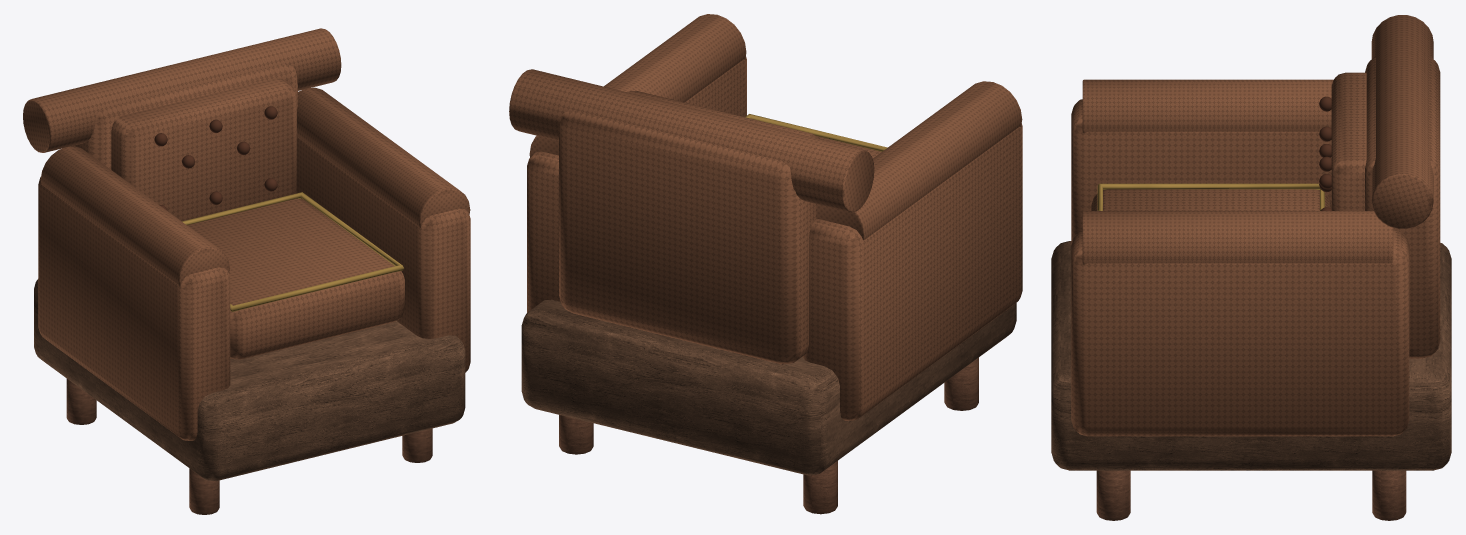
File: asset_068_lounge_armchair_sheet07.glb
3 renders of one model, left to right at view 1: azimuth 30°, elevation 25°; view 2: azimuth 150°, elevation 25°; view 3: azimuth 270°, elevation 25°, orthographic. The views are drawn at different scales.
Visible parts, largest first — view 1: MESH_ArmchairArmBlockSet, MESH_ArmchairBase, MESH_ArmchairSeat, MESH_ArmchairArmRollSet, MESH_ArmchairBackCushion, MESH_ArmchairBackRoll, MESH_ArmchairBack, MESH_ArmchairFootSet, MESH_SeatPipingSet, MESH_ArmchairTuftButtonSet; view 2: MESH_ArmchairBack, MESH_ArmchairArmBlockSet, MESH_ArmchairBase, MESH_ArmchairArmRollSet, MESH_ArmchairBackRoll, MESH_ArmchairFootSet, MESH_ArmchairBackCushion, MESH_SeatPipingSet; view 3: MESH_ArmchairArmBlockSet, MESH_ArmchairArmRollSet, MESH_ArmchairBase, MESH_ArmchairBackRoll, MESH_ArmchairBack, MESH_ArmchairSeat, MESH_ArmchairBackCushion, MESH_ArmchairFootSet, MESH_SeatPipingSet, MESH_ArmchairTuftButtonSet.
Part boxes in pixels (left/top/right/bottom): MESH_ArmchairArmBlockSet: left=38, top=137, right=470, bottom=440; MESH_ArmchairBase: left=34, top=279, right=465, bottom=481; MESH_ArmchairSeat: left=187, top=198, right=404, bottom=359; MESH_ArmchairArmRollSet: left=40, top=87, right=470, bottom=286; MESH_ArmchairBackCushion: left=111, top=78, right=296, bottom=221; MESH_ArmchairBackRoll: left=23, top=28, right=341, bottom=152; MESH_ArmchairBack: left=71, top=64, right=297, bottom=169; MESH_ArmchairFootSet: left=66, top=378, right=432, bottom=514; MESH_SeatPipingSet: left=182, top=192, right=403, bottom=311; MESH_ArmchairTuftButtonSet: left=154, top=106, right=277, bottom=210; MESH_ArmchairBack: left=559, top=110, right=816, bottom=364; MESH_ArmchairArmBlockSet: left=527, top=56, right=1022, bottom=420; MESH_ArmchairBase: left=521, top=299, right=1016, bottom=475; MESH_ArmchairArmRollSet: left=529, top=14, right=1022, bottom=240; MESH_ArmchairBackRoll: left=509, top=69, right=874, bottom=212; MESH_ArmchairFootSet: left=559, top=357, right=978, bottom=514; MESH_ArmchairBackCushion: left=627, top=90, right=819, bottom=139; MESH_SeatPipingSet: left=745, top=114, right=887, bottom=151; MESH_ArmchairArmBlockSet: left=1071, top=99, right=1409, bottom=436; MESH_ArmchairArmRollSet: left=1082, top=79, right=1393, bottom=264; MESH_ArmchairBase: left=1051, top=241, right=1451, bottom=470; MESH_ArmchairBackRoll: left=1371, top=15, right=1433, bottom=228; MESH_ArmchairBack: left=1365, top=57, right=1440, bottom=358; MESH_ArmchairSeat: left=1091, top=189, right=1331, bottom=210; MESH_ArmchairBackCushion: left=1331, top=72, right=1366, bottom=210; MESH_ArmchairFootSet: left=1096, top=470, right=1406, bottom=520; MESH_SeatPipingSet: left=1097, top=183, right=1324, bottom=210; MESH_ArmchairTuftButtonSet: left=1319, top=96, right=1331, bottom=210.
Size of the model in its own units: 0.85 by 0.9 by 0.9.
Materials: 6 (5 with a texture image).
